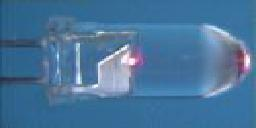LED: (19, 9, 255, 110)
